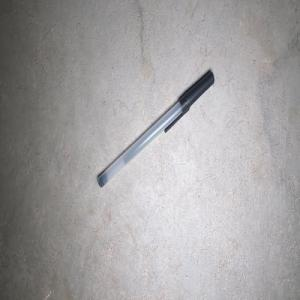Pen: (97, 71, 214, 187)
